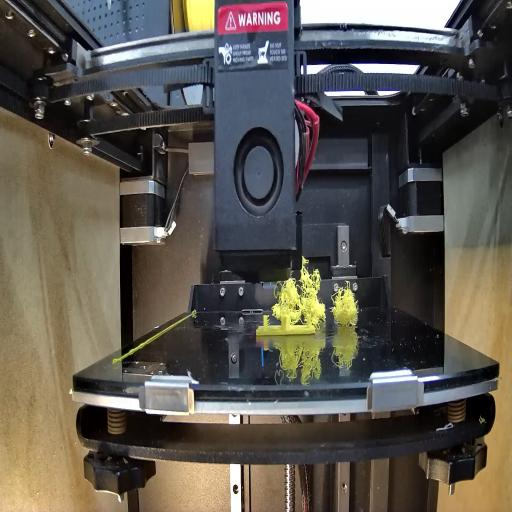spaghetti: (274, 254, 327, 325), (334, 290, 362, 326)
